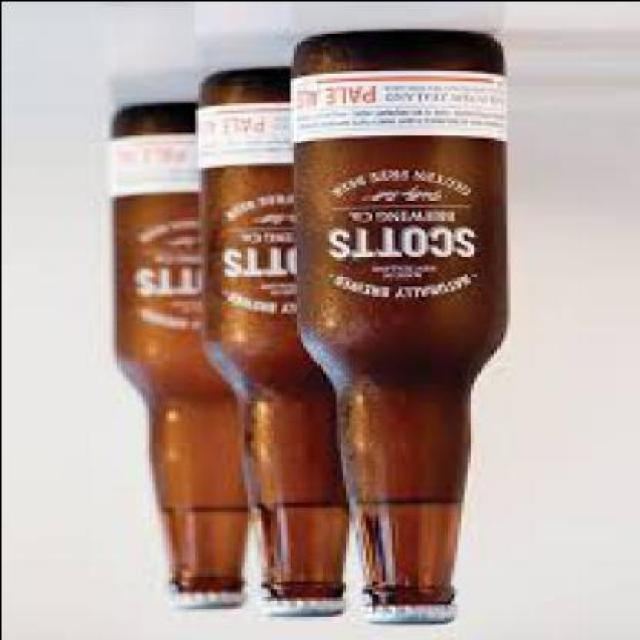GLASS: (292, 32, 512, 600), (196, 67, 352, 596), (111, 107, 247, 593)
METAL: (364, 605, 456, 627), (266, 600, 354, 620), (177, 595, 249, 613)
